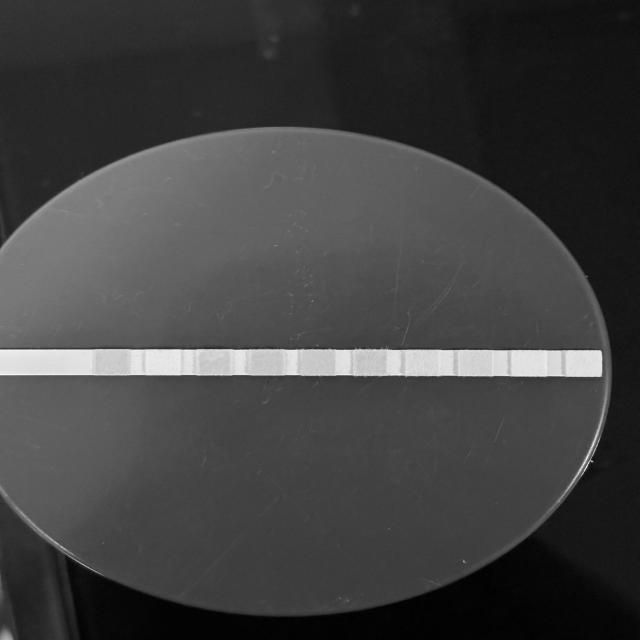Bilirubin: (148, 349, 179, 374)
Blood: (304, 351, 335, 376)
Glucose: (97, 350, 128, 374)
Ketone: (198, 350, 230, 375)
Leukocytes: (568, 350, 599, 376)
Nitrite: (513, 350, 545, 376)
Protein: (408, 350, 439, 375)
SpGravity: (252, 350, 284, 376)
Urobilinogen: (460, 351, 492, 376)
background: (0, 0, 640, 640)
pH: (355, 350, 387, 375)
strip: (4, 349, 601, 377)
